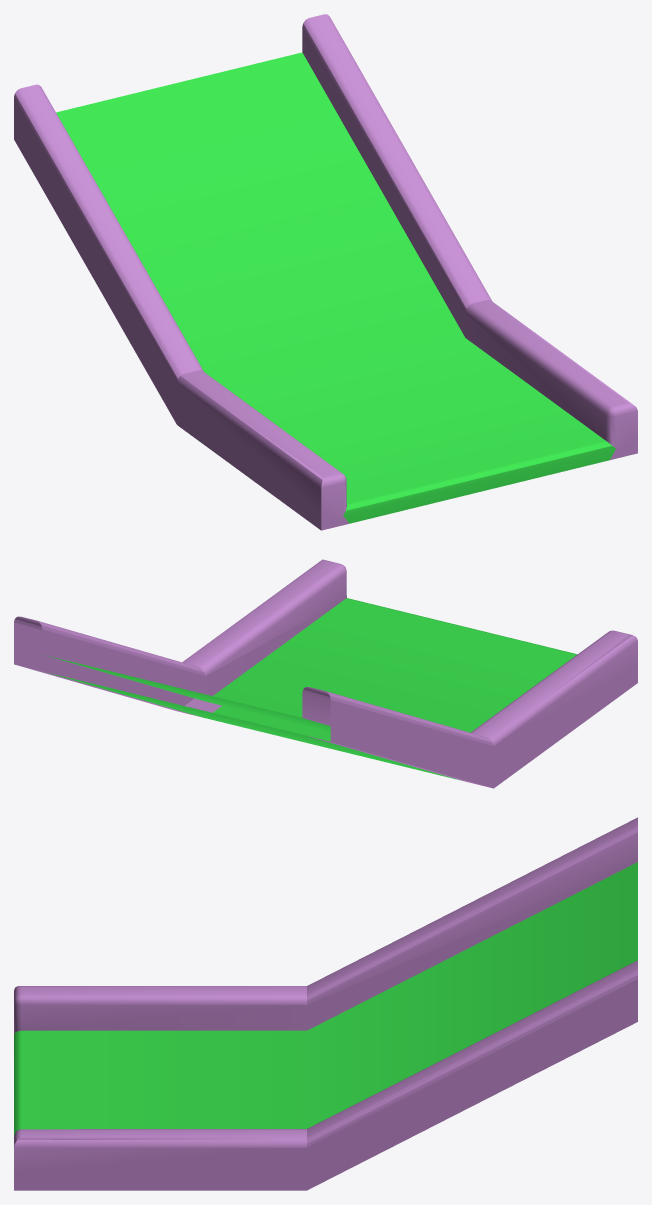
The model's file is Slide1_Start.fbx.
The picture shows the model from 3 angles, top to bottom: view 1: azimuth 30°, elevation 25°; view 2: azimuth 150°, elevation 25°; view 3: azimuth 270°, elevation 25°; orthographic projection.
Visible parts, largest first — view 1: Slide1_Start; view 2: Slide1_Start; view 3: Slide1_Start.
Boxes of the visible parts, left/top/right/bottom form: Slide1_Start: left=14, top=14, right=637, bottom=530; Slide1_Start: left=14, top=559, right=637, bottom=788; Slide1_Start: left=14, top=817, right=637, bottom=1190.
Size of the model in its own units: 2.5 by 1.63 by 4.2.
